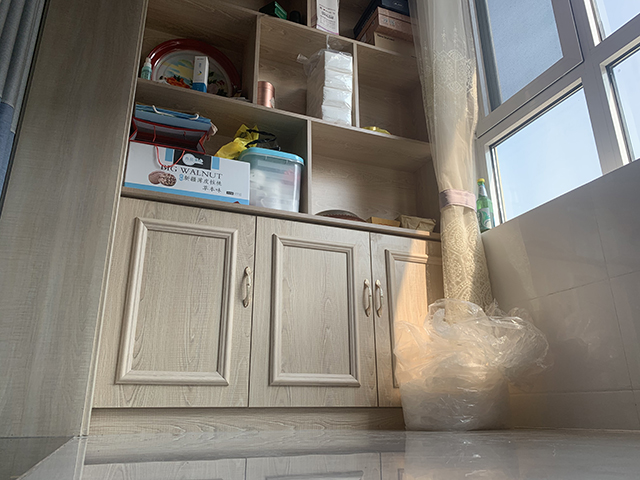cabinet: (83, 183, 444, 436)
curtain: (412, 3, 496, 307)
